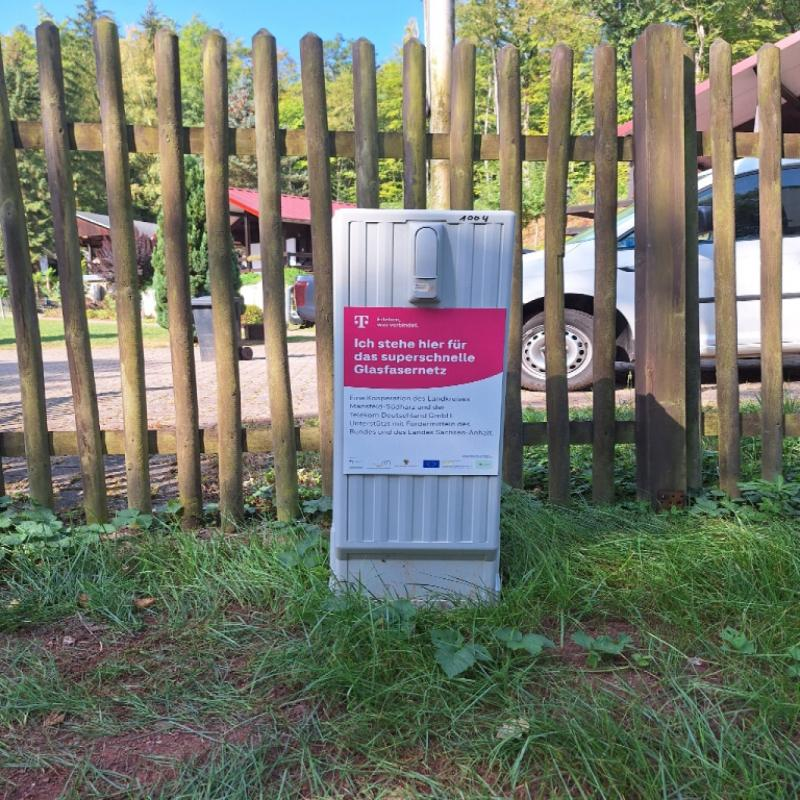NT-Gehause: (329, 209, 509, 591)
Steaker: (345, 307, 505, 476)
